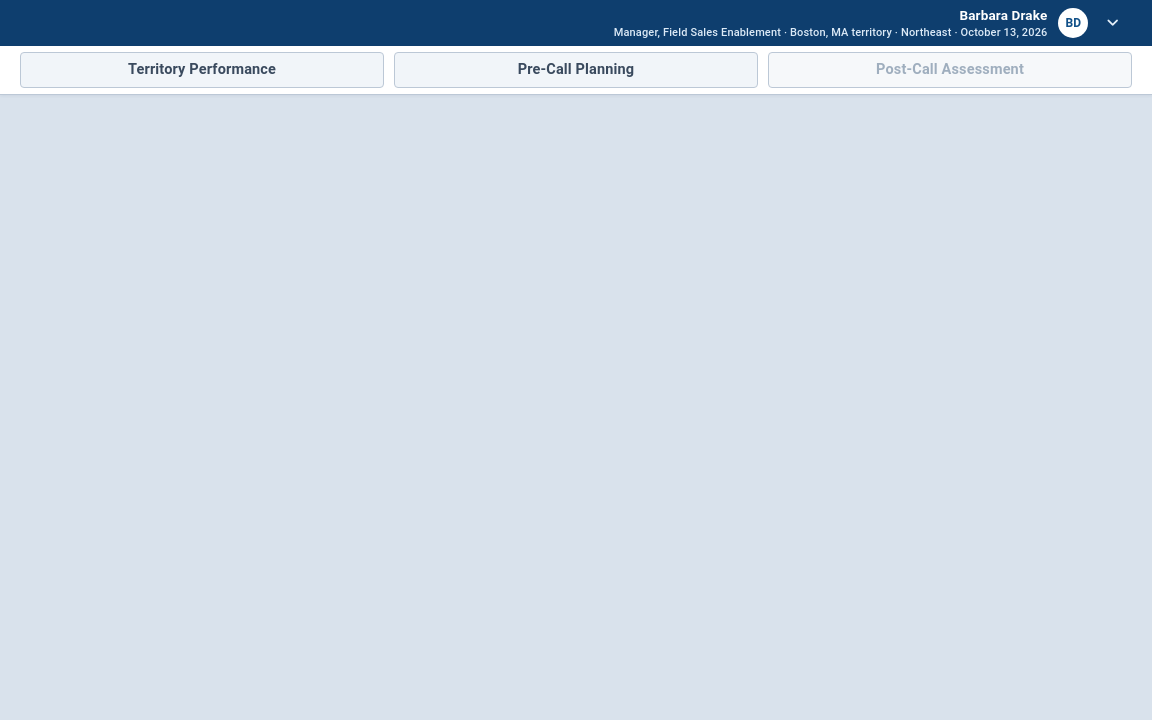
shell and impersonation › lists recently viewed reps, picks switch straight away, and no toast is shown
Click the button named "Account": (868, 23) [604, 2, 1132, 44]
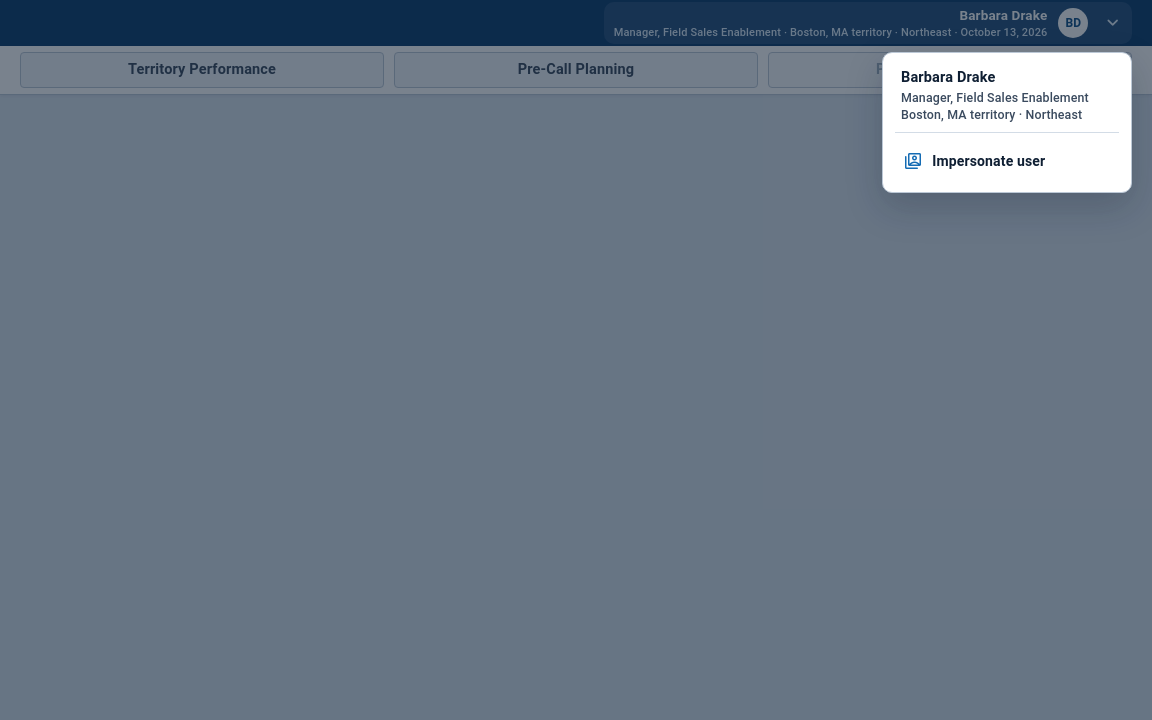
Click the menu item "Impersonate user": (1007, 162) [891, 138, 1123, 184]
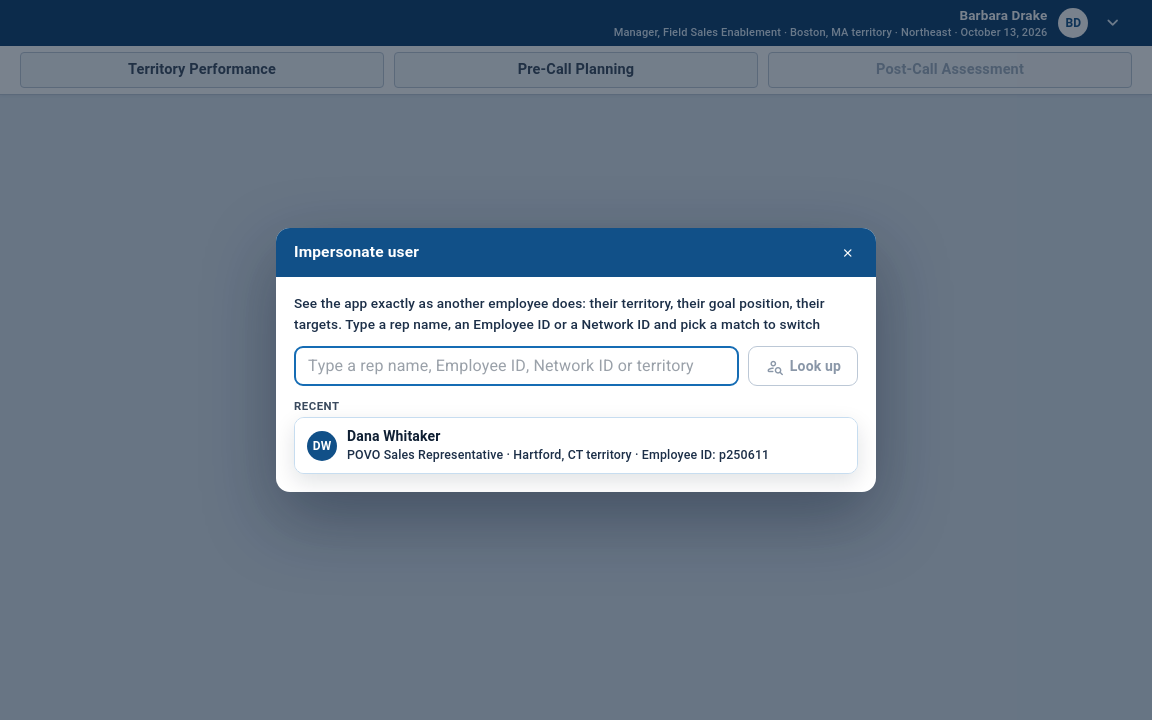
Check: the text "Recent" is shown, box [294, 399, 340, 413]
Click the option "Dana Whitaker": (576, 446) [295, 418, 857, 473]
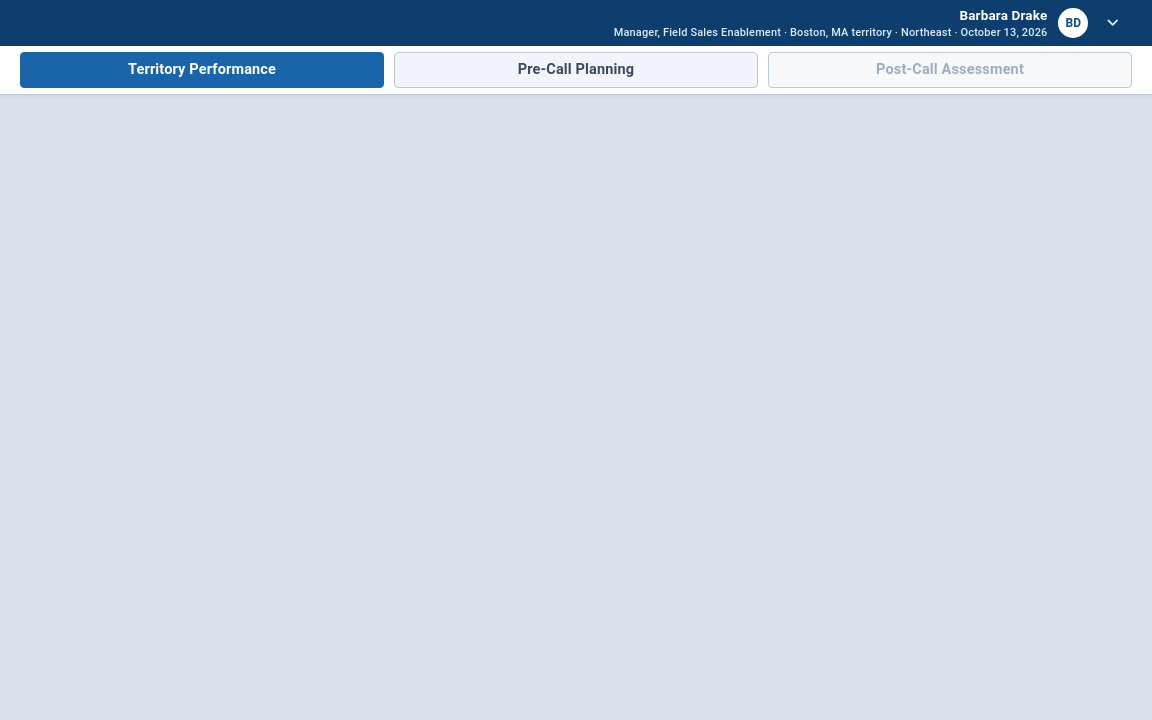
Check: the dialog is gone
